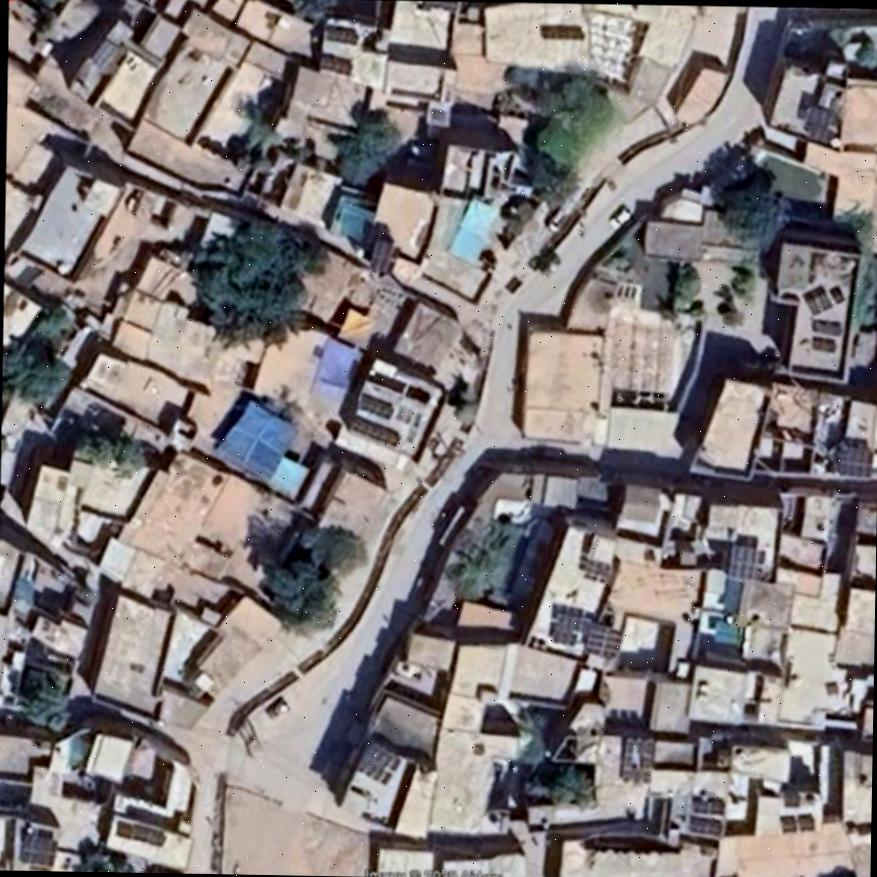Solarpanel: (356, 742, 399, 782), (348, 412, 401, 443), (585, 623, 621, 657), (18, 833, 56, 864), (552, 613, 591, 642), (836, 447, 872, 475), (728, 547, 756, 580), (359, 390, 393, 417), (690, 819, 717, 833)
